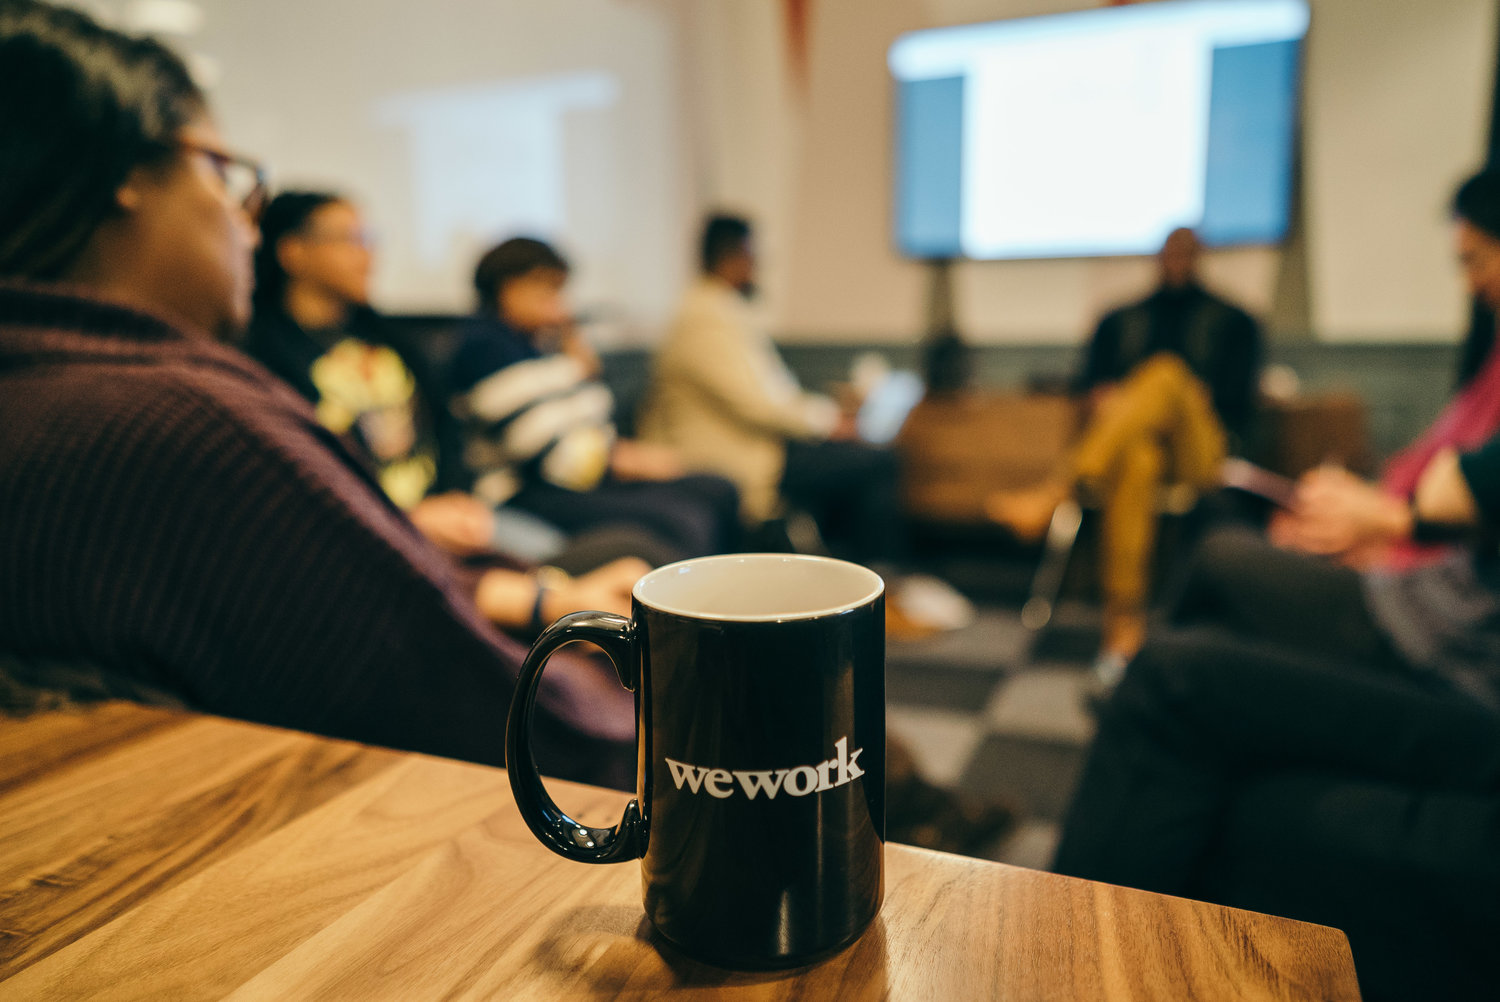wework: (659, 732, 868, 804)
